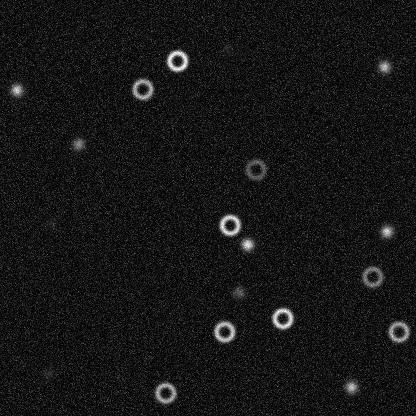Ring: (217, 212, 241, 236), (212, 319, 236, 343), (165, 48, 189, 72), (360, 264, 384, 288), (243, 157, 267, 181), (153, 380, 177, 404), (130, 77, 154, 101), (386, 319, 410, 343), (270, 306, 294, 330)
Spot: (43, 214, 59, 230), (343, 378, 359, 394), (378, 223, 394, 239), (40, 365, 56, 381), (239, 236, 255, 252), (218, 41, 234, 57), (376, 58, 392, 74), (230, 284, 246, 300), (70, 135, 86, 151), (8, 81, 24, 97)
